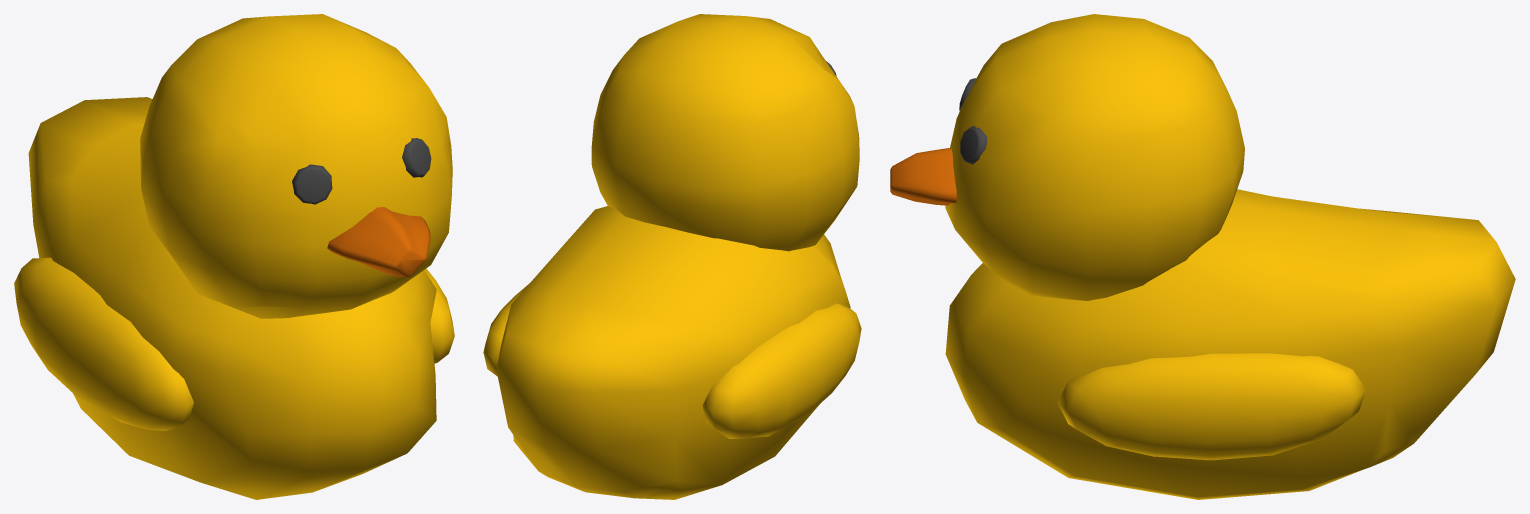
The model's file is Toy_6.fbx.
3 views of the same model, side by side, from view 1: azimuth 30°, elevation 25°; view 2: azimuth 150°, elevation 25°; view 3: azimuth 270°, elevation 25° (orthographic). The views are drawn at different scales.
Parts seen in each view (by area): view 1: Toy_6; view 2: Toy_6; view 3: Toy_6.
Part boxes in pixels (x1,y1,x2,y2): Toy_6: [14, 14, 454, 499]; Toy_6: [483, 14, 861, 499]; Toy_6: [890, 14, 1515, 499].
Size of the model in its own units: 0.1979 by 0.2609 by 0.3303.
